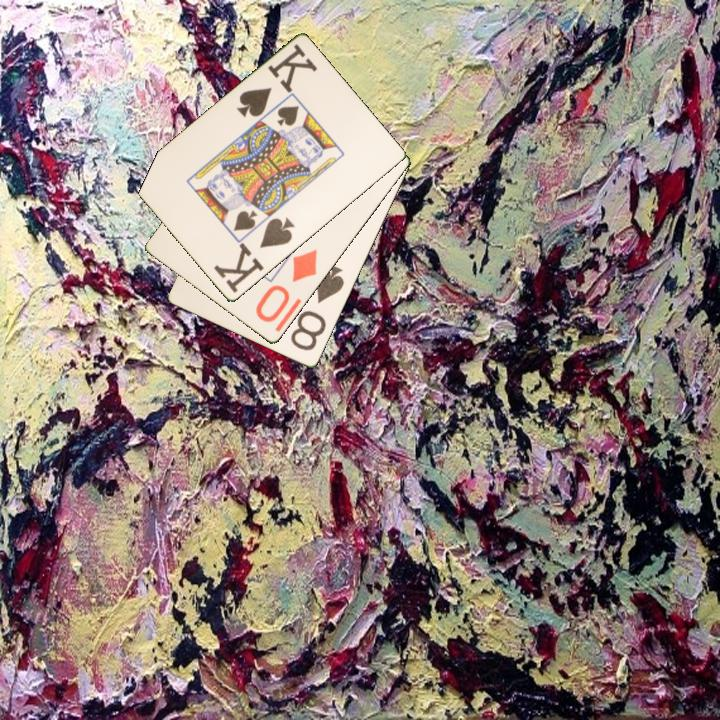10d: (252, 246, 320, 326)
8s: (287, 261, 347, 354)
Ks: (210, 214, 298, 296), (233, 41, 320, 121)
